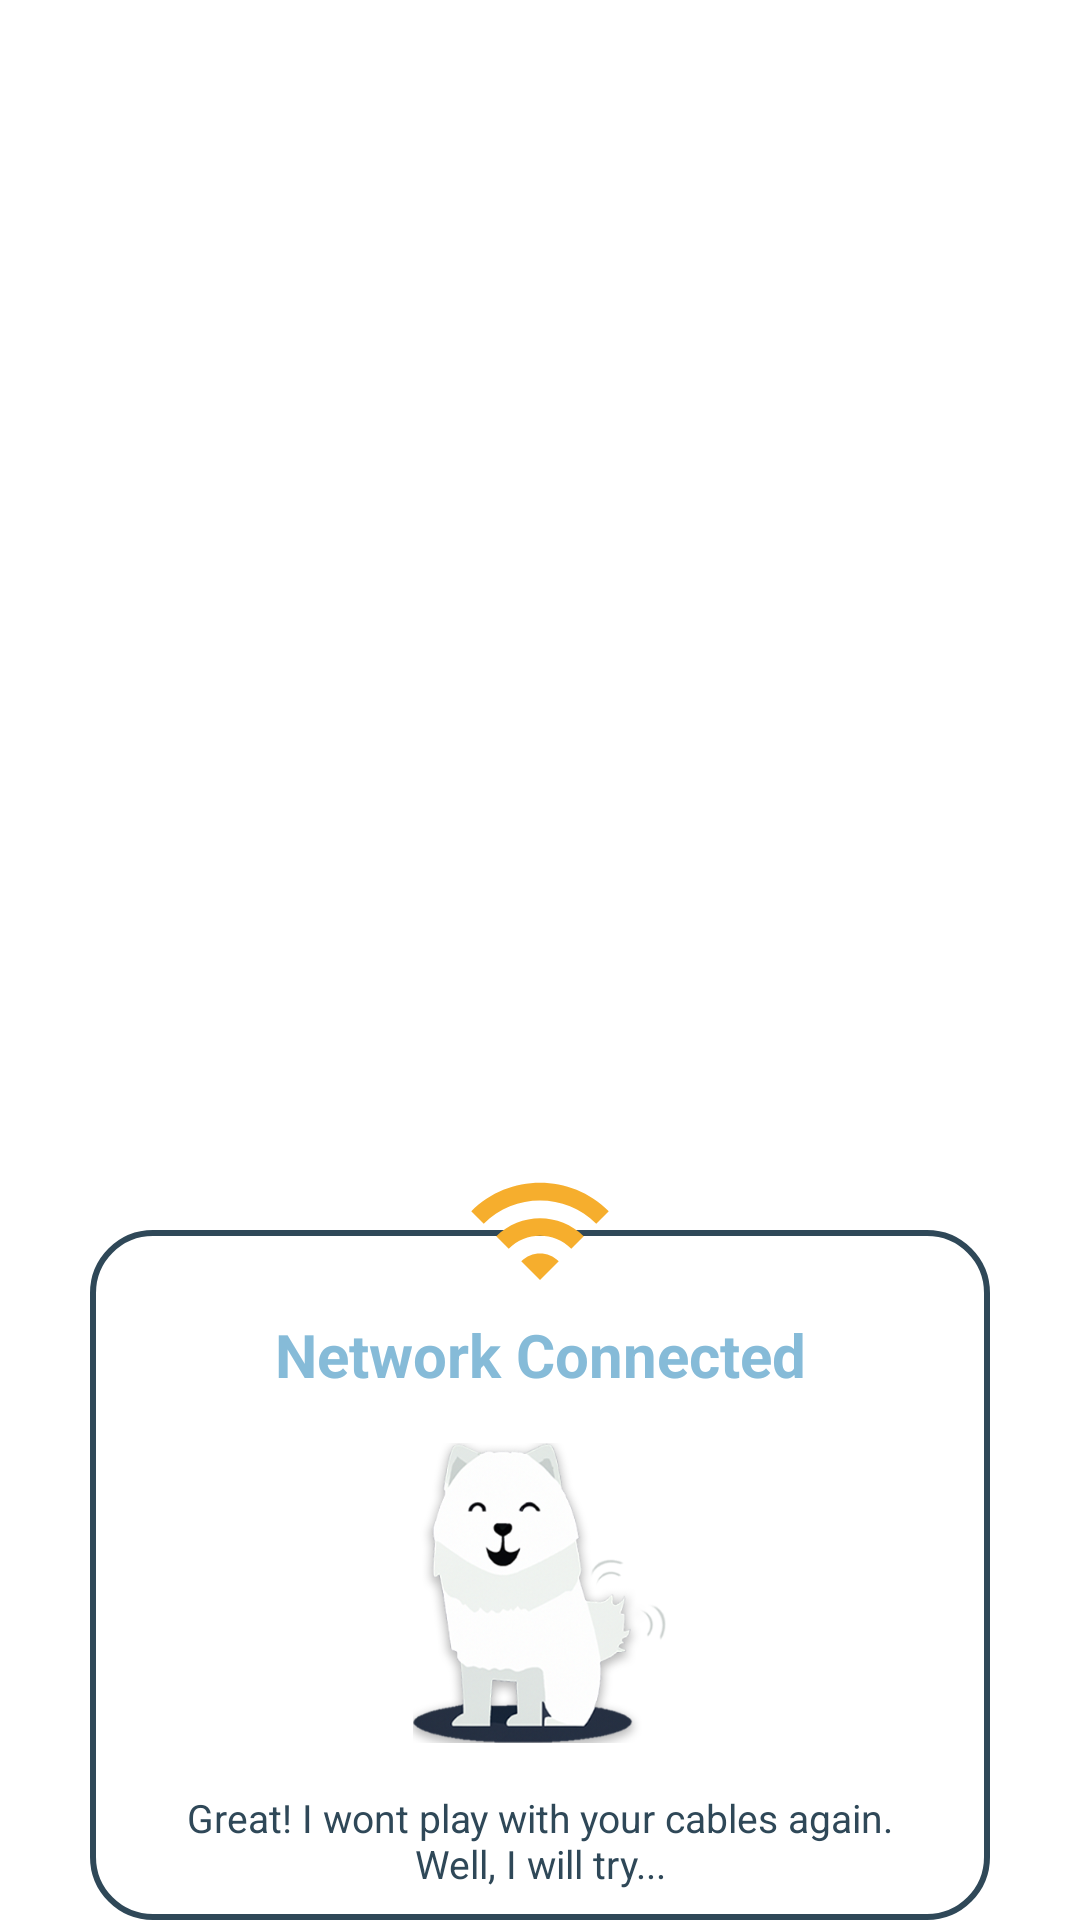

Where to tap for icons on this 1080 x 1920 app screen, as (x=x, y=y):
wifi: (x=540, y=1231)
